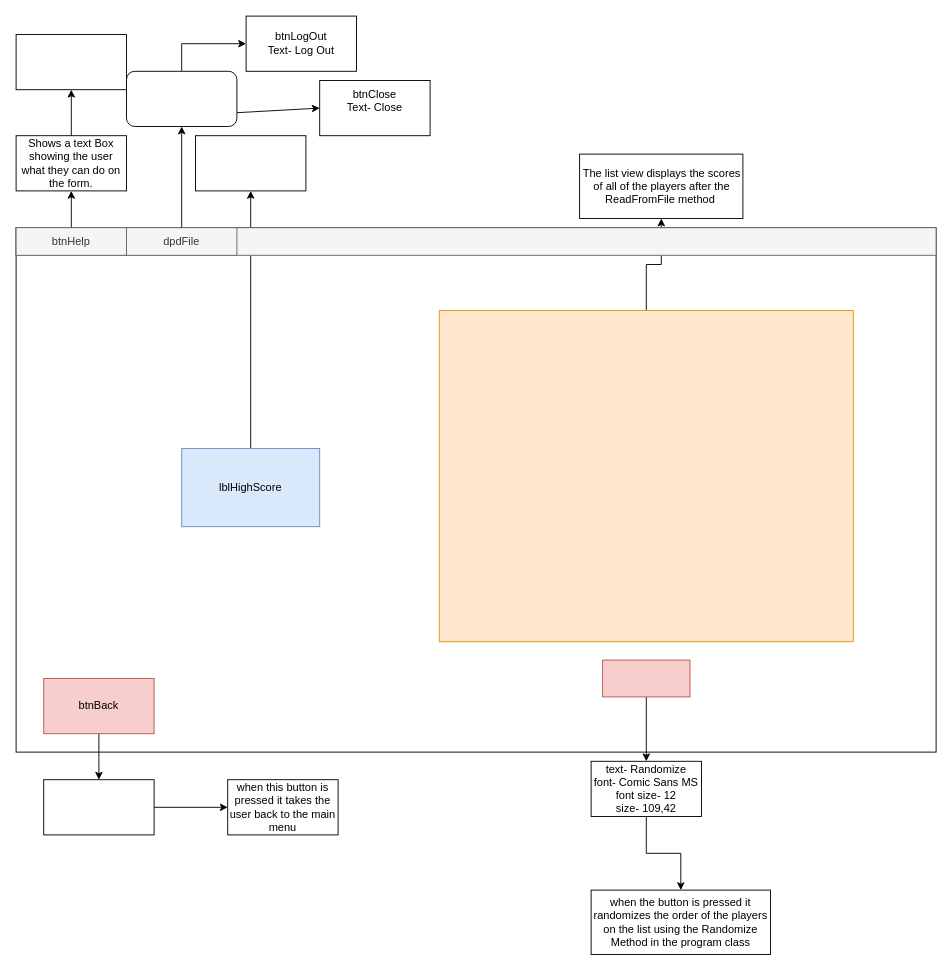
The diagram is 952 pixels wide and 971 high, and some of its shapes have lost their labels. The shapes that lost their labels are listed below. From the top down, each one's box as (x1, y1, x2, y2) in pixels, then its label:
(15, 34, 126, 90): Text- Help Font- Comic Sans MS Font Size- 12
(126, 70, 237, 126): Text- File contains btnClose and BtnLogOut
(195, 135, 306, 191): text- Highscores font- Comic Sans ms font size- 18 Size- 140,33
(438, 310, 853, 642): ltv1
(602, 659, 690, 697): btnRandom
(43, 779, 154, 835): text- Back font- Comic Sans MS font size- 12 size- 92,42
